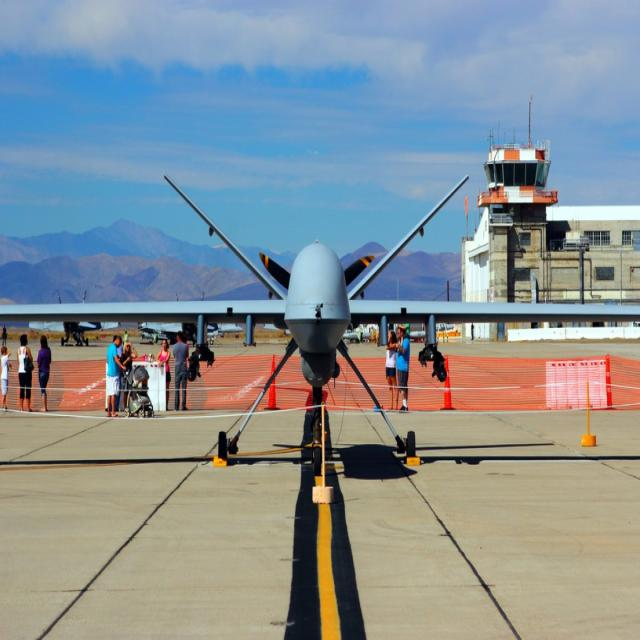MIL_Plane: (0, 173, 640, 463), (28, 290, 119, 346)
